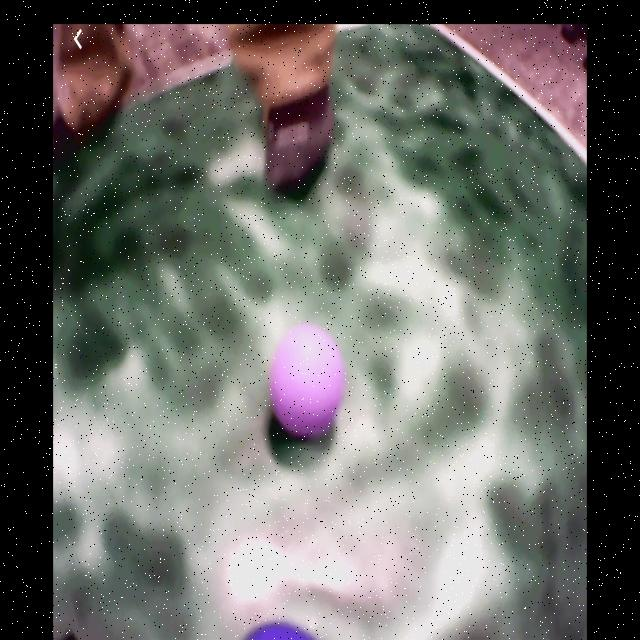ball: (271, 324, 347, 428), (238, 615, 317, 640)
